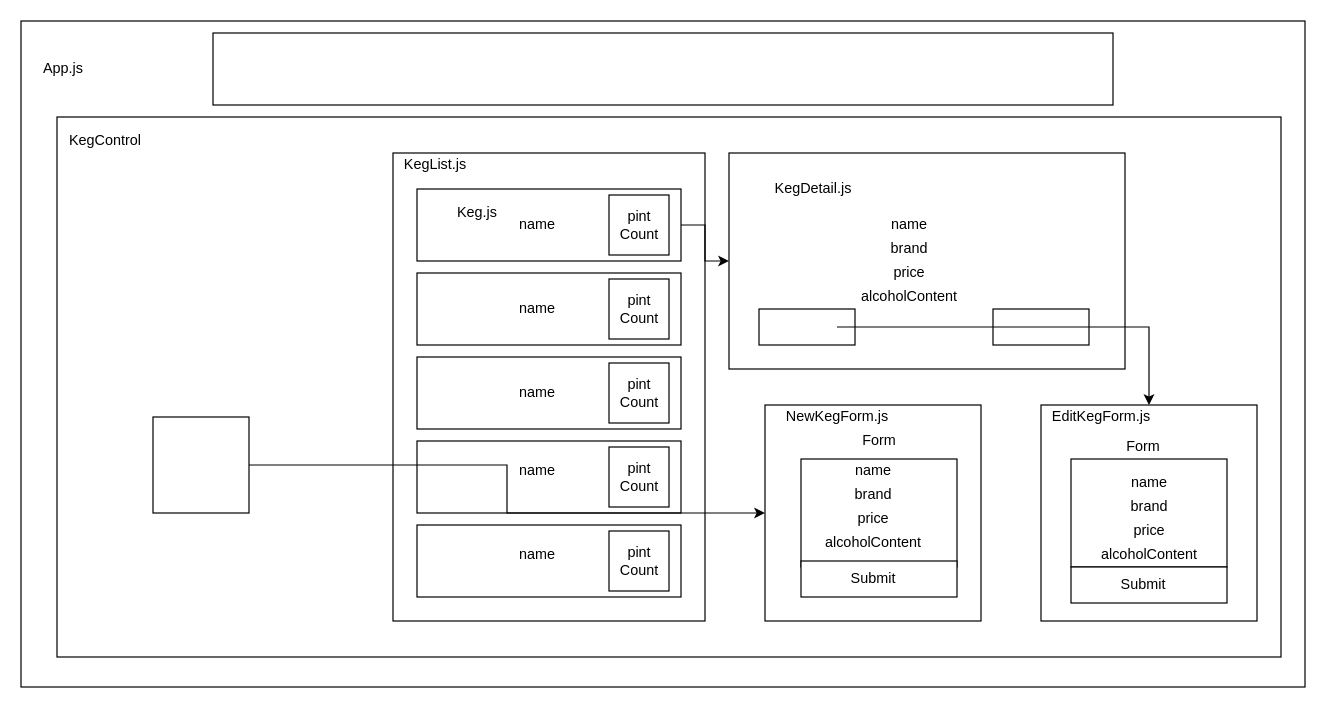
Image size: 1326x708. Some labels were removed from this diagram. The box of each missing label's shape, as (x1, y1, x2, y2) in pixels:
AddKeg.js: (152, 416, 249, 513)
Delete: (992, 308, 1089, 345)
Header.js: (212, 32, 1113, 105)
Update: (758, 308, 855, 345)
